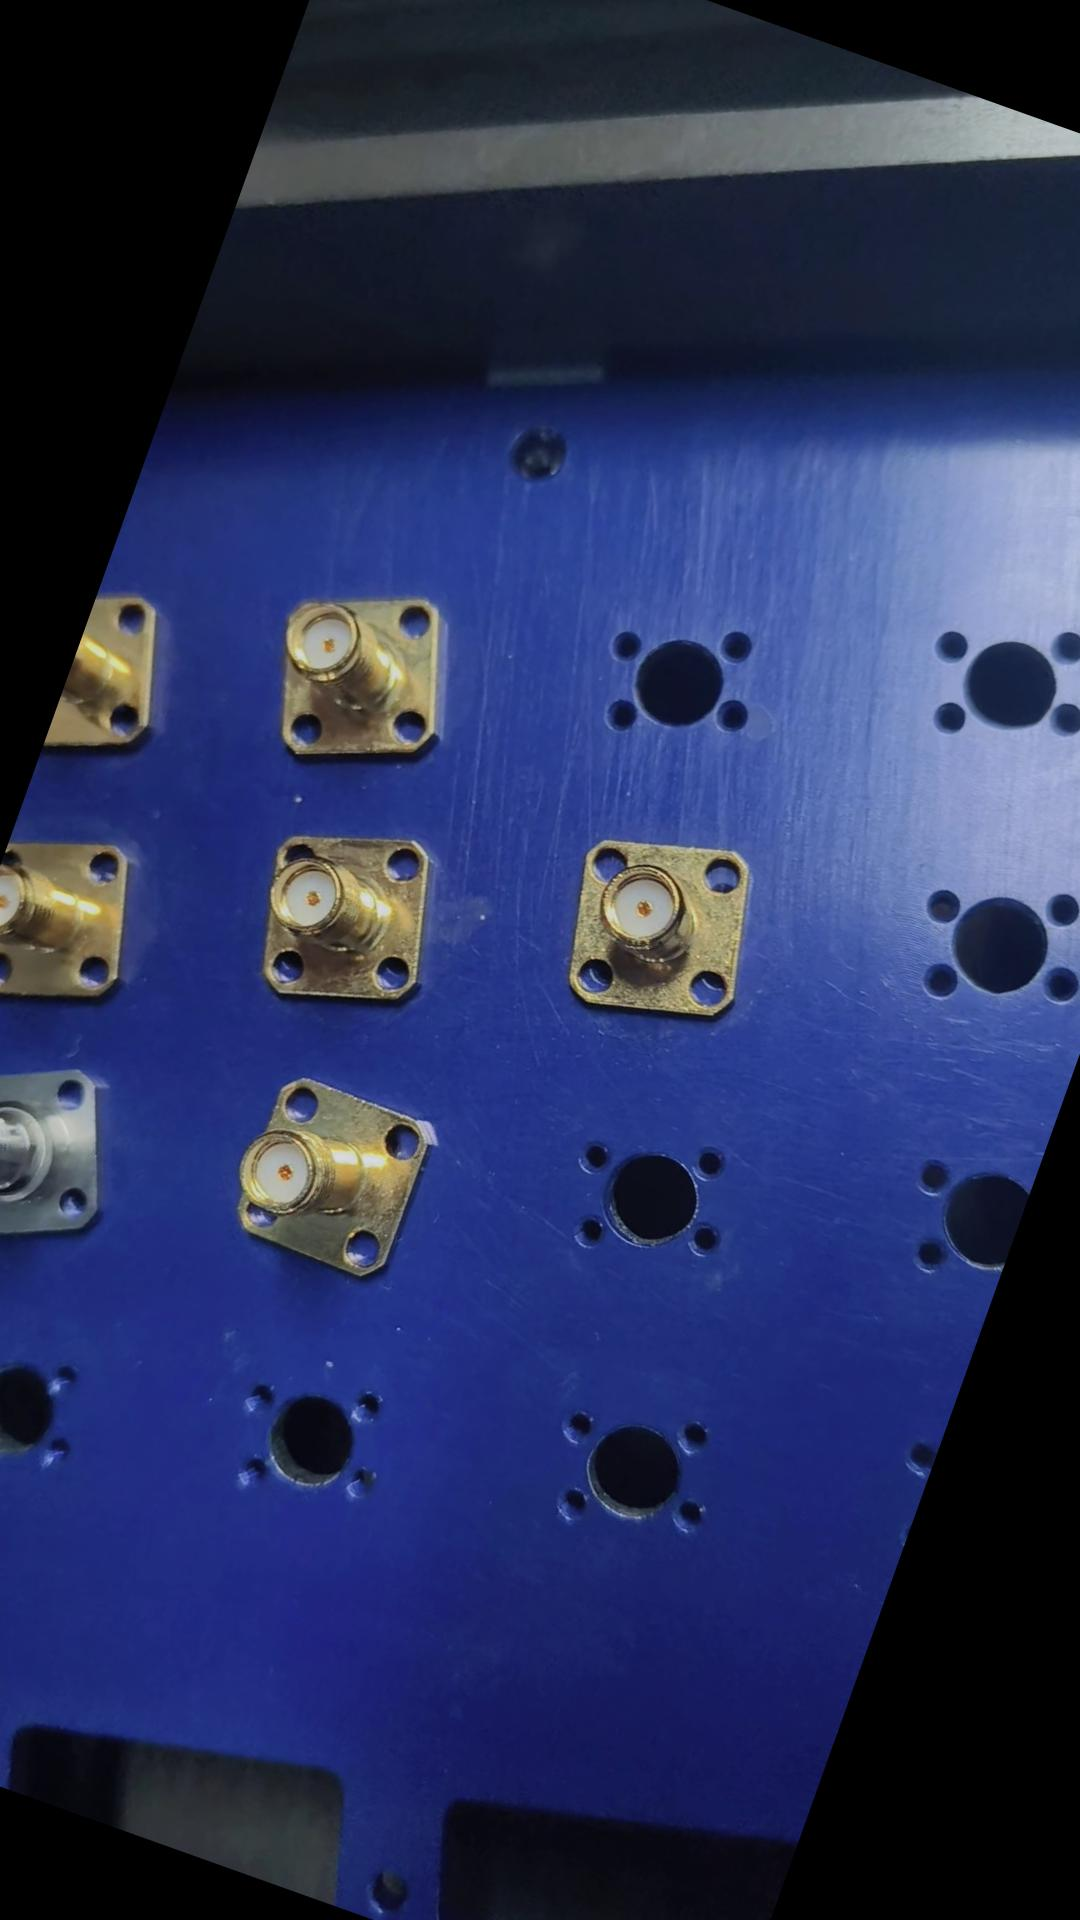SMA: (248, 556, 489, 816), (542, 802, 783, 1052), (235, 789, 468, 1040), (222, 1063, 454, 1294)
